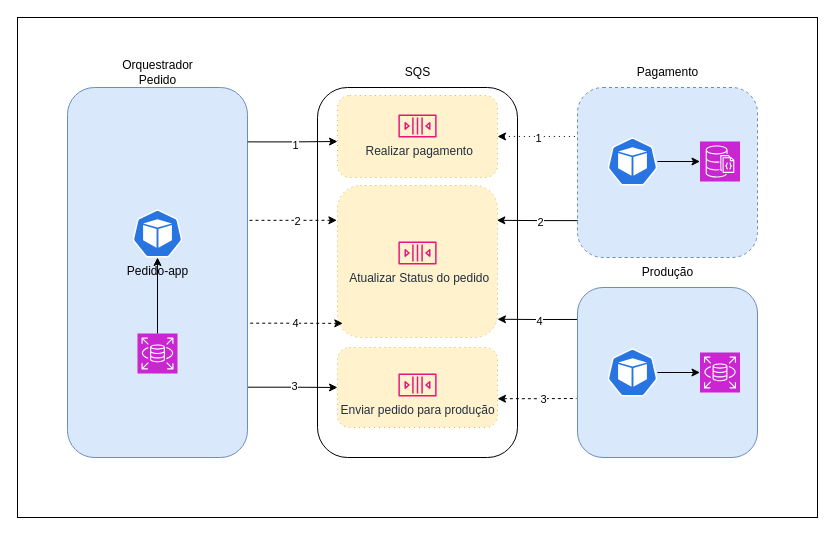
Image size: 835x535. Some labels were removed from this diagram. The shapes that lost their labels are listed below. From the top down, each one's centre as x and y in pixels, then its label:
At pixel 632 161: "Pagamento-app".
At pixel 632 372: "Producao-app".
